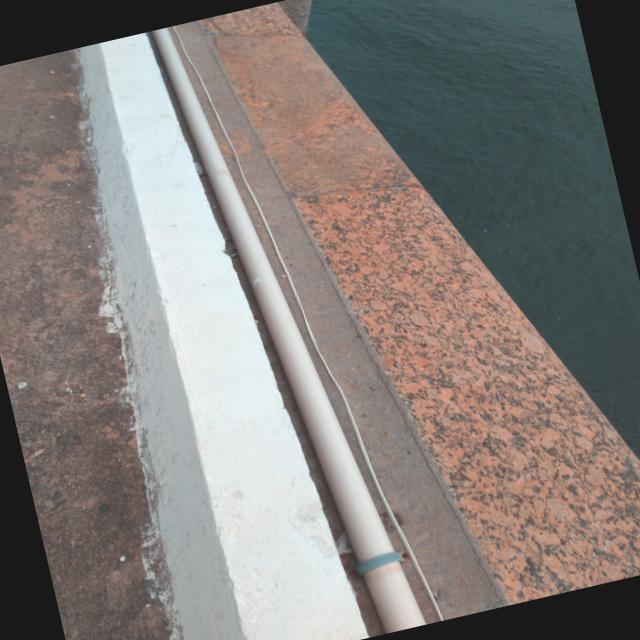gas: (152, 27, 424, 633)
